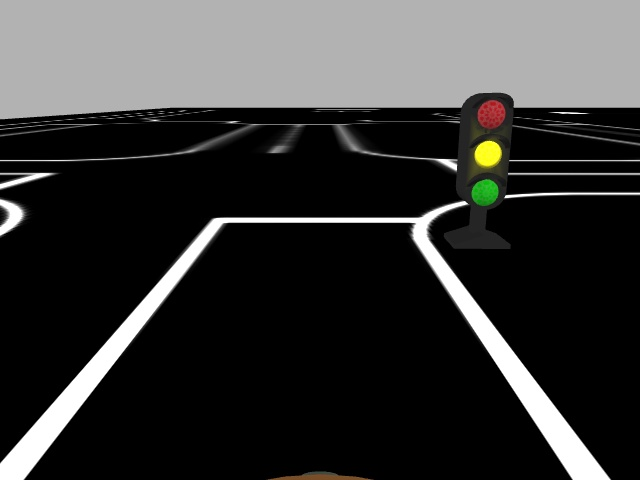yellow_light: (458, 92, 514, 211)
